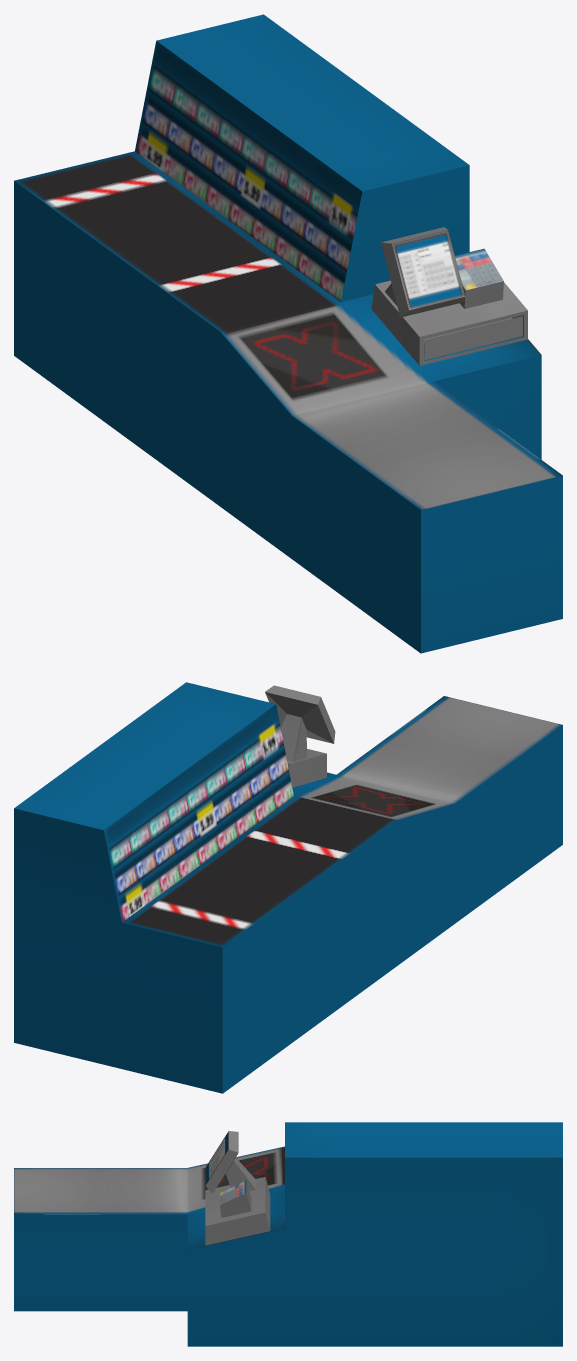
Rendered from Checkout_Register.fbx.
The picture shows the model from 3 angles, top to bottom: view 1: azimuth 30°, elevation 25°; view 2: azimuth 150°, elevation 25°; view 3: azimuth 270°, elevation 25°; orthographic projection. The views are drawn at different scales.
Parts seen in each view (by area): view 1: Checkout_Register_1; view 2: Checkout_Register_1; view 3: Checkout_Register_1.
Boxes of the visible parts, box(x1,y1,x2,y2) form: Checkout_Register_1: box(14, 14, 562, 653); Checkout_Register_1: box(14, 682, 562, 1093); Checkout_Register_1: box(14, 1122, 562, 1346).
Bounding box in the file's own units: 160 × 172 × 451.
